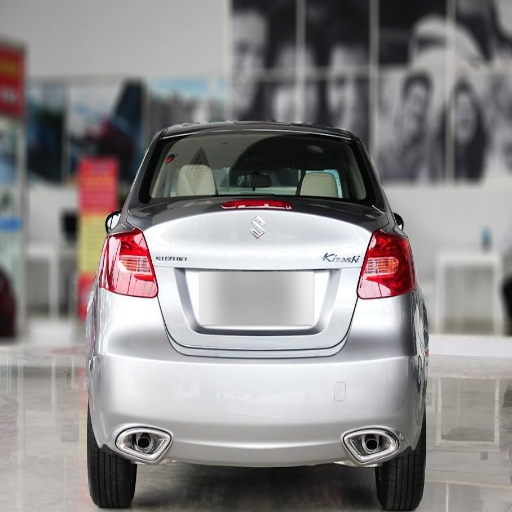back_bumper: (88, 288, 420, 465)
tailgate: (118, 200, 386, 350)
trunk: (220, 202, 314, 232)
